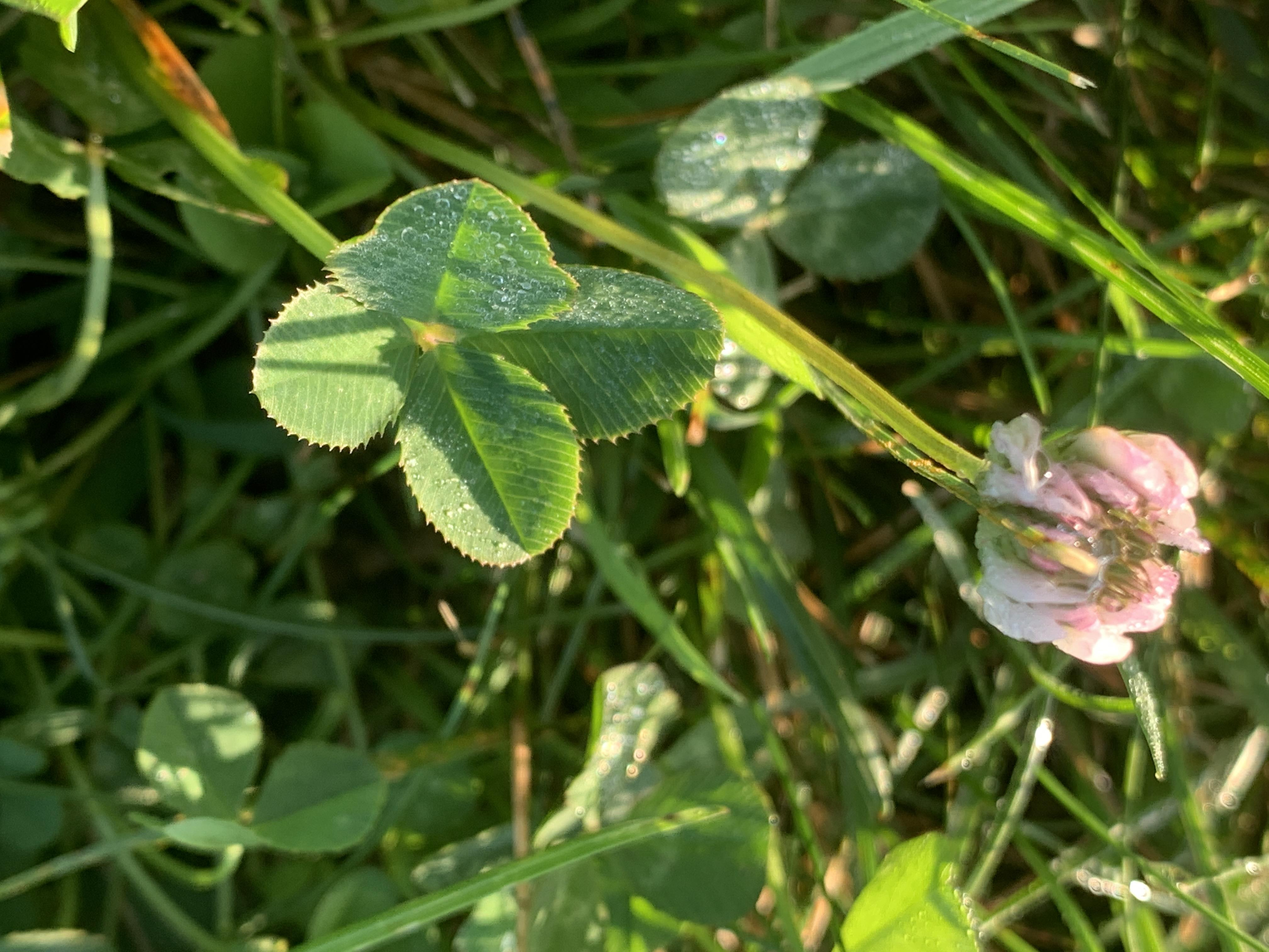4-Leaf-Clovers: (536, 380, 1019, 776)
